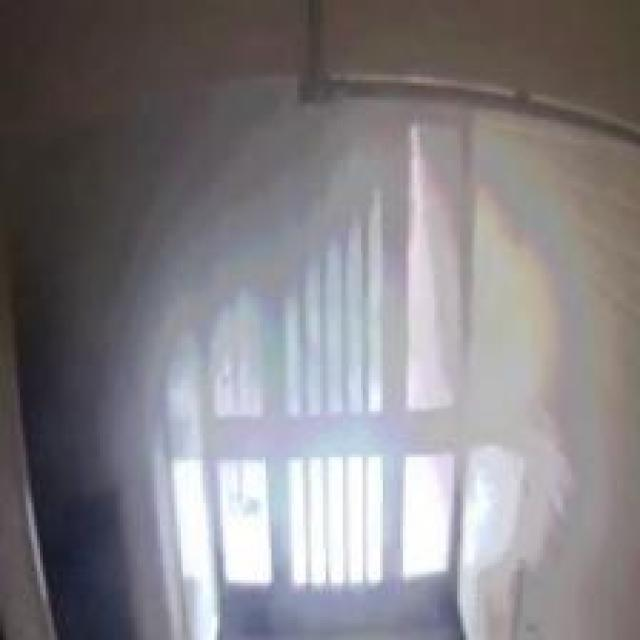fire: (86, 94, 494, 417)
